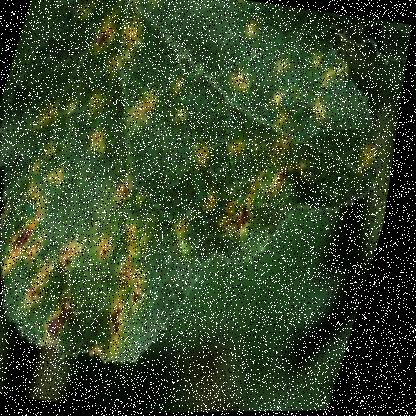Anthracnose: (0, 171, 179, 377), (144, 90, 305, 260)
